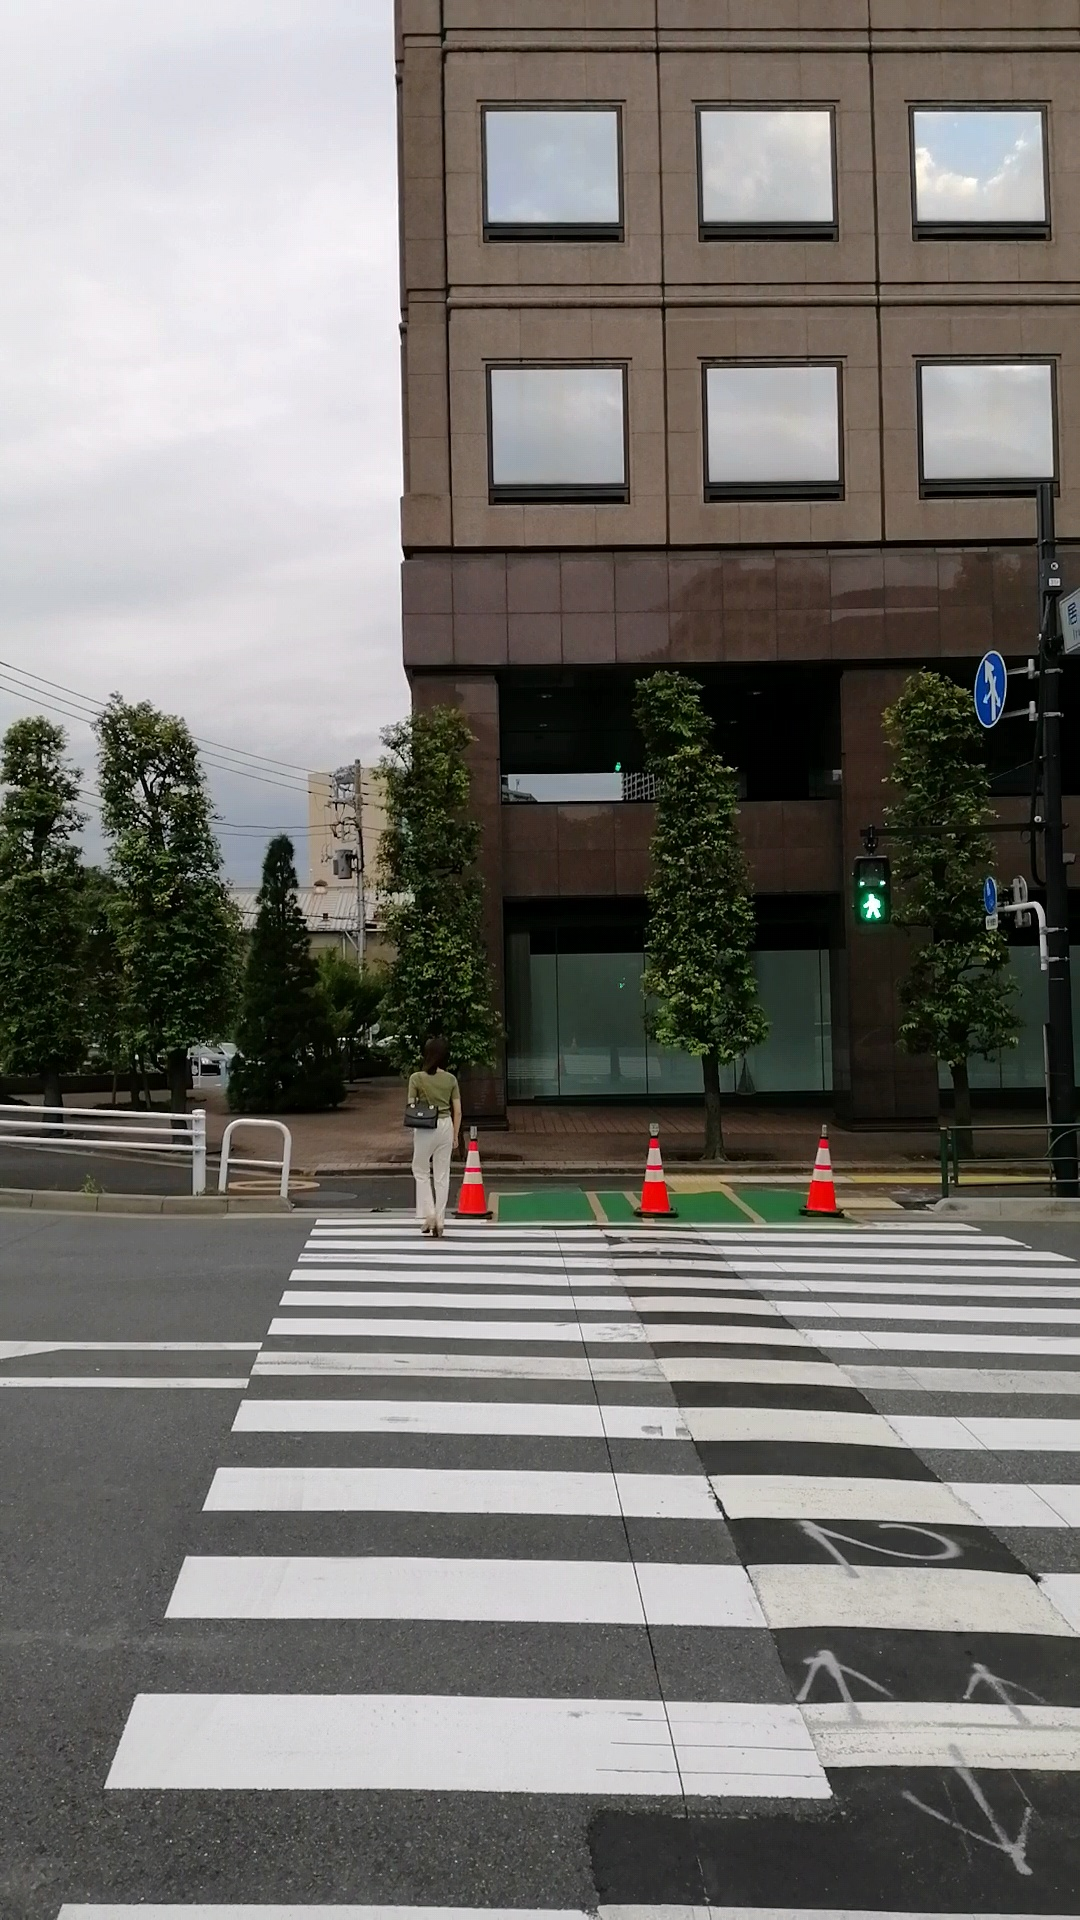green: (851, 856, 890, 924)
